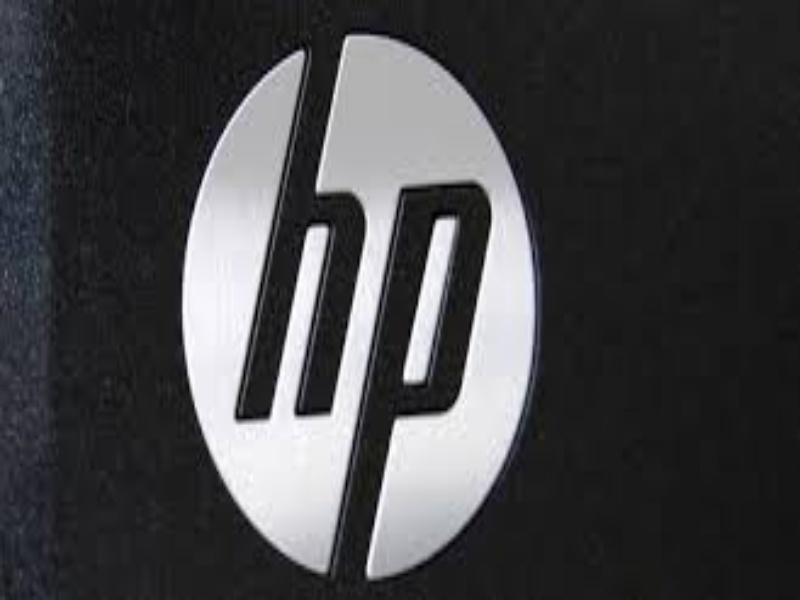hp: (206, 39, 500, 578)
